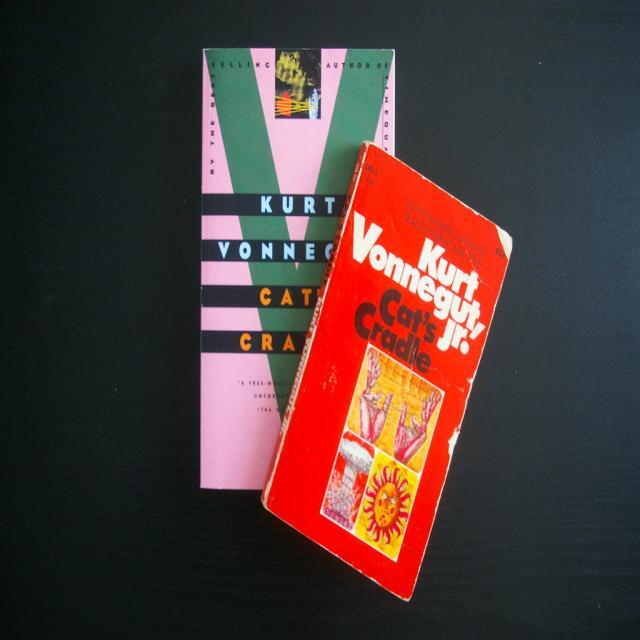book: (255, 130, 513, 605), (198, 39, 399, 490)
